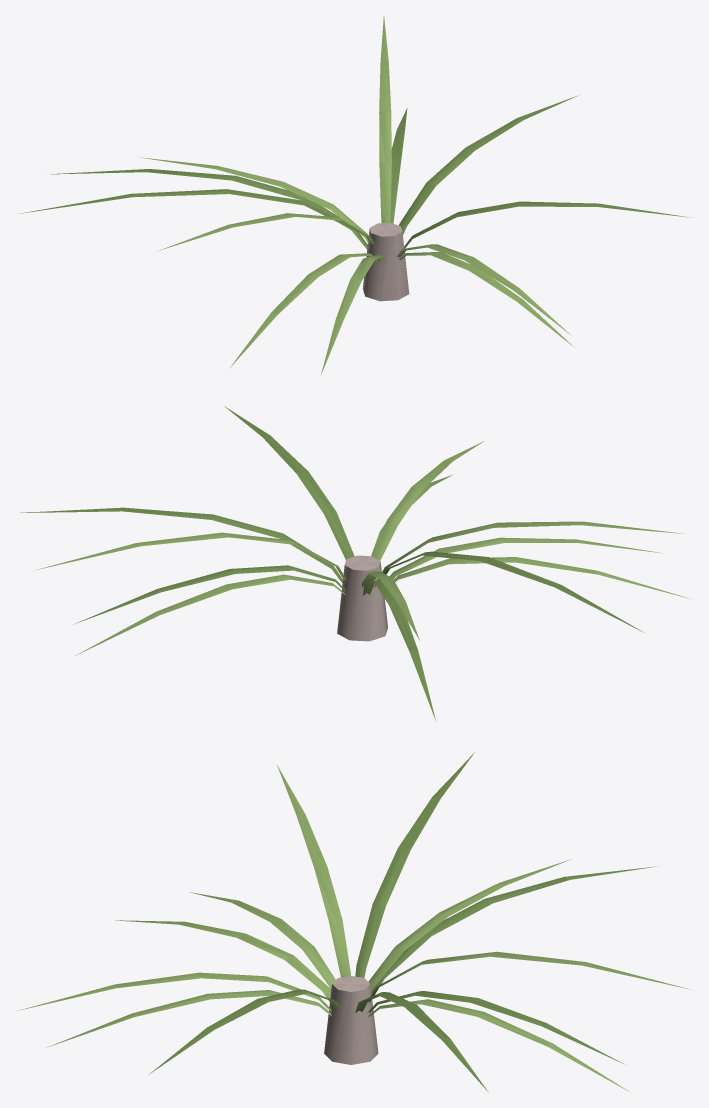
Rendered from crop-lemongrass-ready.glb.
The picture shows the model from 3 angles, top to bottom: view 1: azimuth 30°, elevation 25°; view 2: azimuth 150°, elevation 25°; view 3: azimuth 270°, elevation 25°; orthographic projection. The views are drawn at different scales.
Parts seen in each view (by area): view 1: crop-lemongrass-ready-kit; view 2: crop-lemongrass-ready-kit; view 3: crop-lemongrass-ready-kit.
Boxes of the visible parts, x1,y1,x2,y2 form: crop-lemongrass-ready-kit: [18, 16, 692, 374]; crop-lemongrass-ready-kit: [20, 406, 691, 720]; crop-lemongrass-ready-kit: [18, 752, 691, 1092].
Bounding box in the file's own units: 2.33 × 0.5036 × 2.13.
